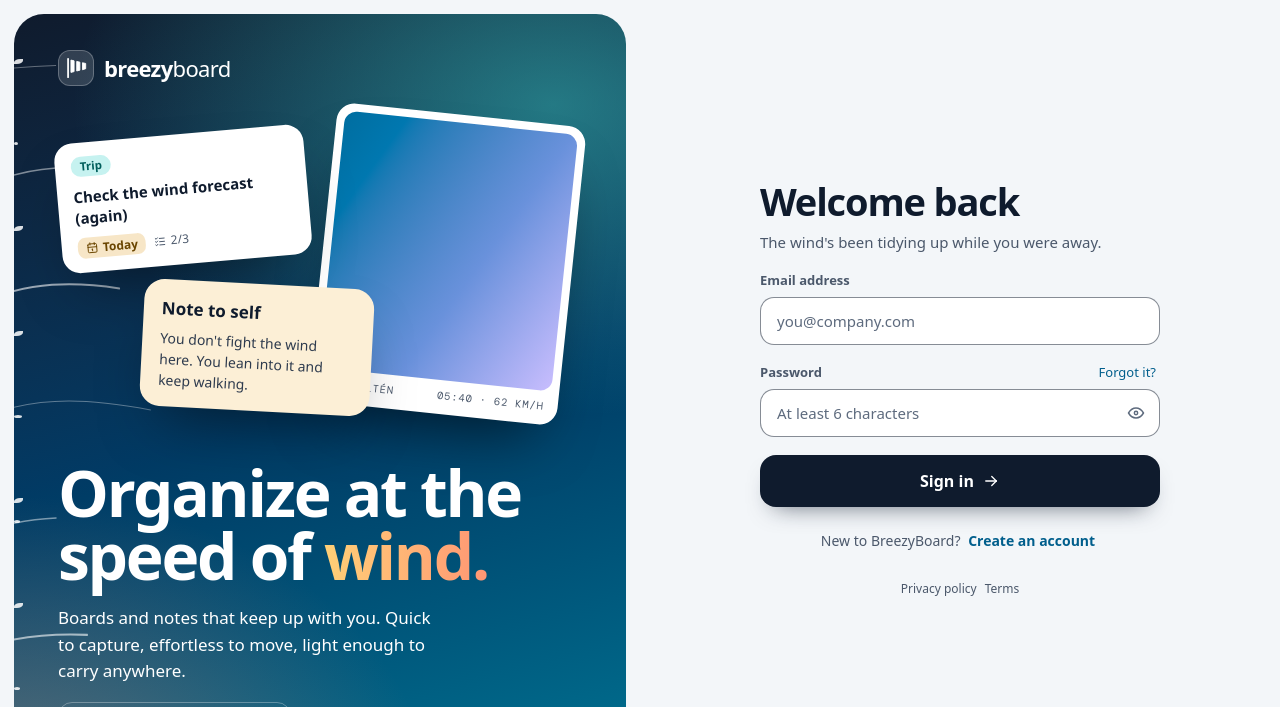
Test case: Sign in validation › asks for an email rather than submitting an empty form
Click the button "Sign in" at [960, 481], box [760,455,1160,507]
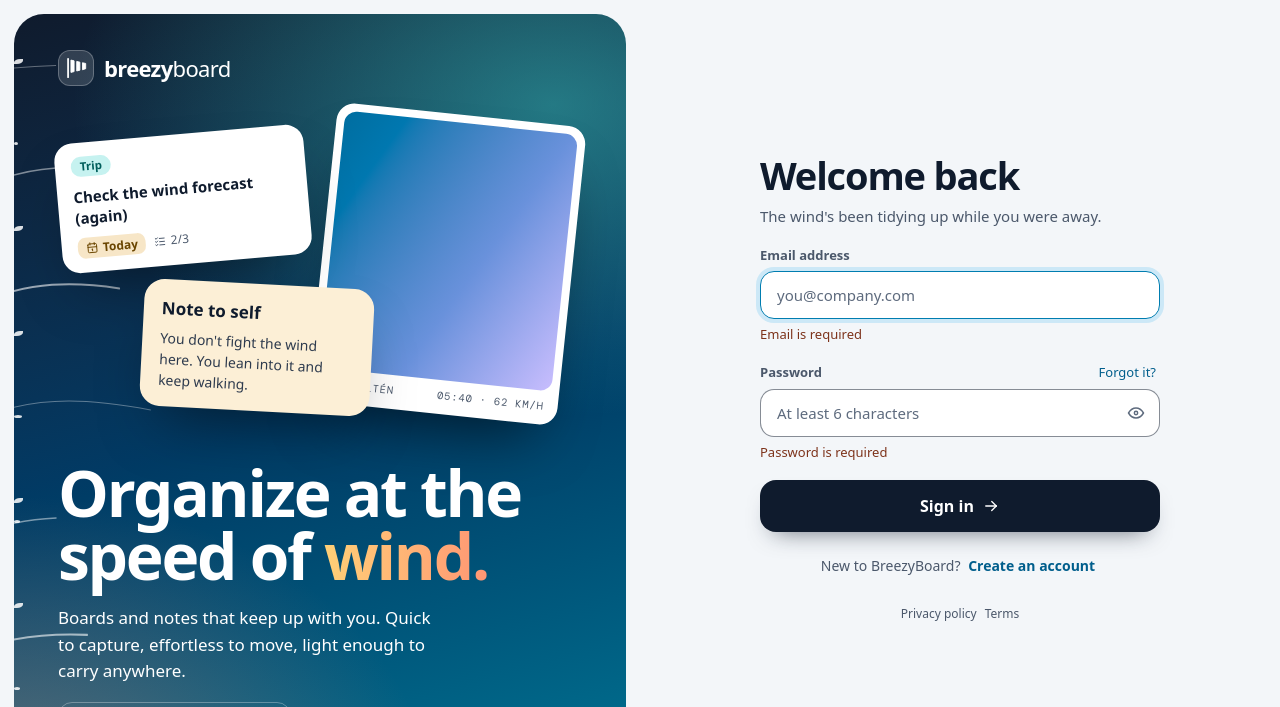
Check: the text "Email is required" is shown, box [760,325,862,343]
Check: the text "Password is required" is shown, box [760,443,887,461]
